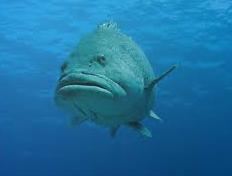Serranidae -Groupers-: (50, 13, 177, 136)
